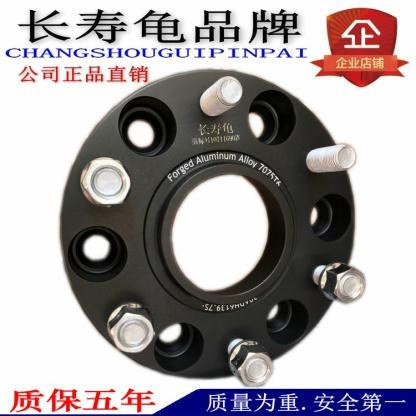FOD: (55, 63, 360, 382)
